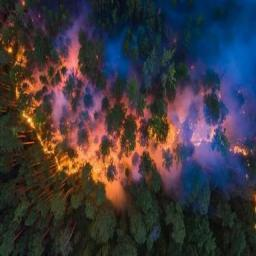Large fire: (0, 13, 241, 204)
Low smoke: (165, 1, 256, 67), (94, 22, 142, 83), (181, 147, 239, 197)
